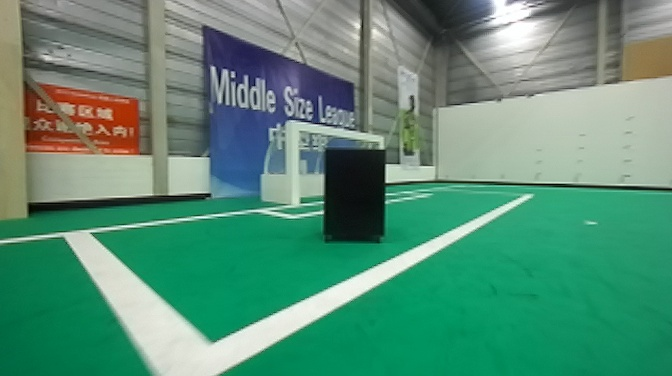goalpost: (287, 119, 302, 205), (373, 138, 383, 148)
